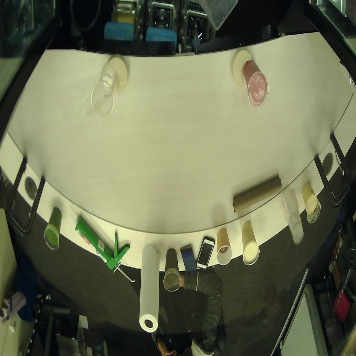coffee_cup: (213, 226, 234, 266)
empty_cup: (273, 190, 312, 248)
full_cup: (242, 56, 272, 110), (89, 65, 119, 119), (237, 219, 266, 270), (301, 174, 323, 227), (162, 242, 184, 295), (42, 202, 64, 255)
puck: (105, 53, 133, 94), (228, 46, 256, 87)
